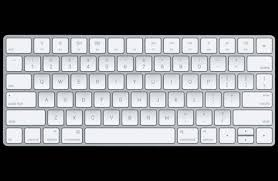keyboard: (4, 31, 278, 146)
